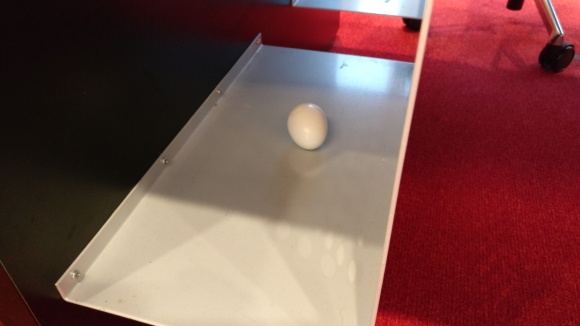egg: (286, 102, 329, 150)
